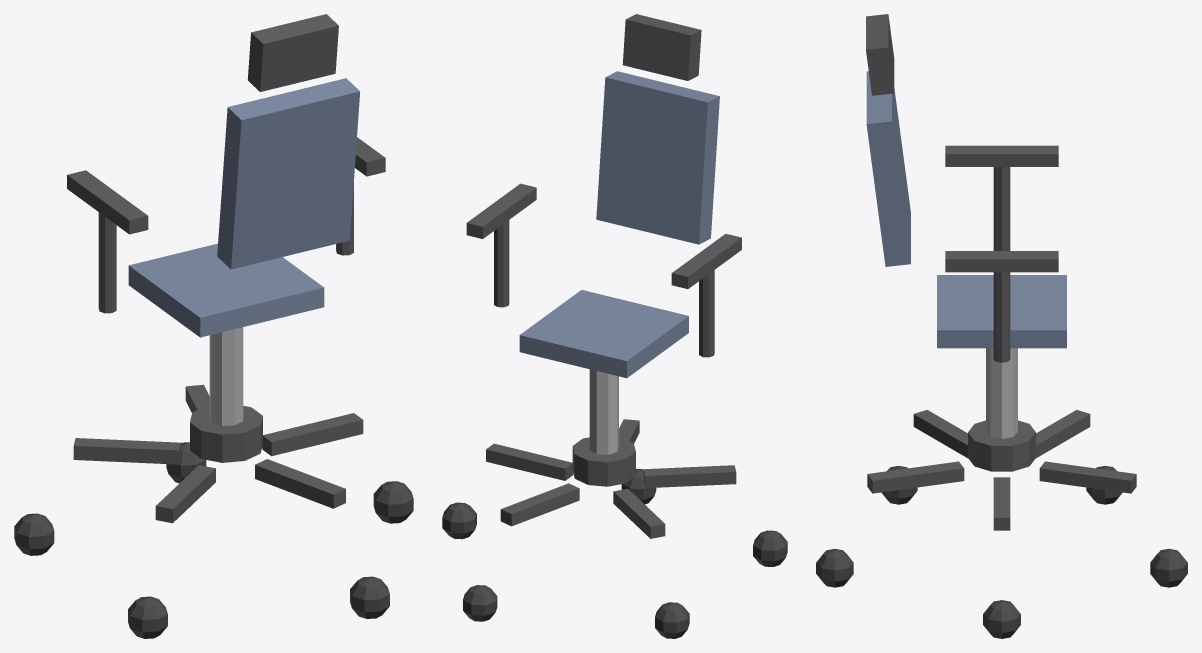
Rendered from office_cadeira2.glb.
The picture shows the model from 3 angles, left to right: view 1: azimuth 30°, elevation 25°; view 2: azimuth 150°, elevation 25°; view 3: azimuth 270°, elevation 25°; orthographic projection. The views are drawn at different scales.
Parts seen in each view (by area): view 1: OFFICE_CADEIRA2; view 2: OFFICE_CADEIRA2; view 3: OFFICE_CADEIRA2.
Part boxes in pixels (x1,y1,x2,y2): OFFICE_CADEIRA2: [14, 14, 413, 638]; OFFICE_CADEIRA2: [442, 14, 787, 638]; OFFICE_CADEIRA2: [816, 14, 1187, 638].
Bounding box in the file's own units: 0.6274 × 1.04 × 0.6562.
